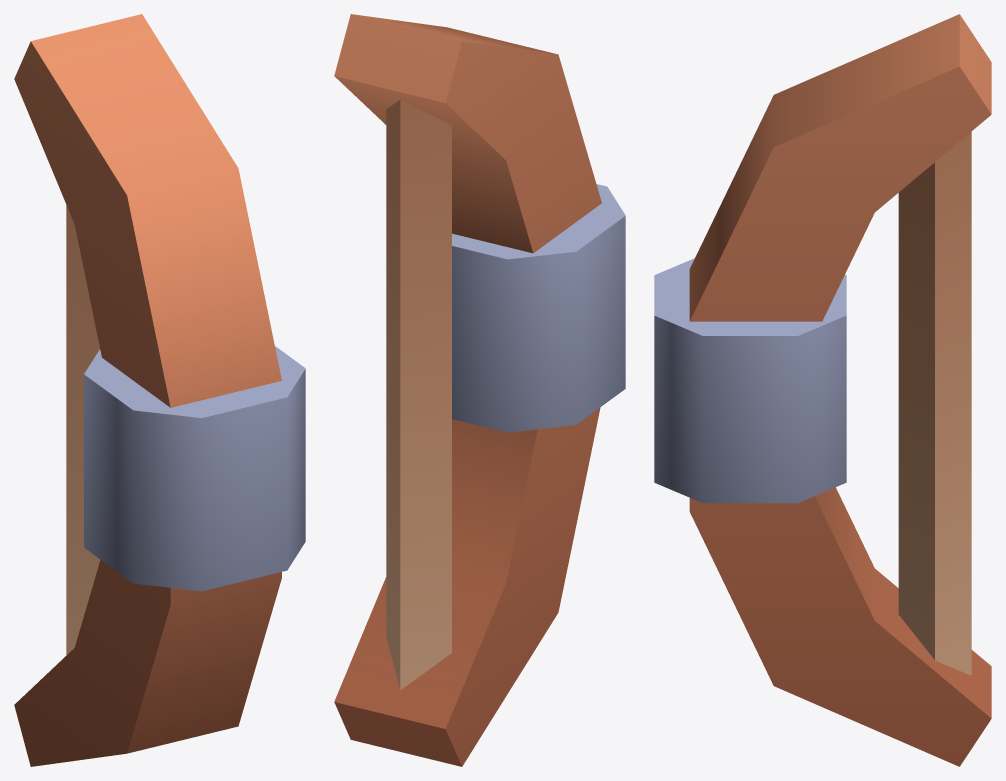
Rendered from forest_weapon-bow.obj.
The picture shows the model from 3 angles, left to right: view 1: azimuth 30°, elevation 25°; view 2: azimuth 150°, elevation 25°; view 3: azimuth 270°, elevation 25°; orthographic projection. The views are drawn at different scales.
Visible parts, largest first — view 1: weapon-bow; view 2: weapon-bow; view 3: weapon-bow.
Part boxes in pixels (<box>): weapon-bow: <box>14,14,305,766</box>; weapon-bow: <box>334,14,625,766</box>; weapon-bow: <box>654,14,991,766</box>.
Bounding box in the file's own units: 0.119 × 0.4787 × 0.2089.
Materials: 1 (1 with a texture image).
